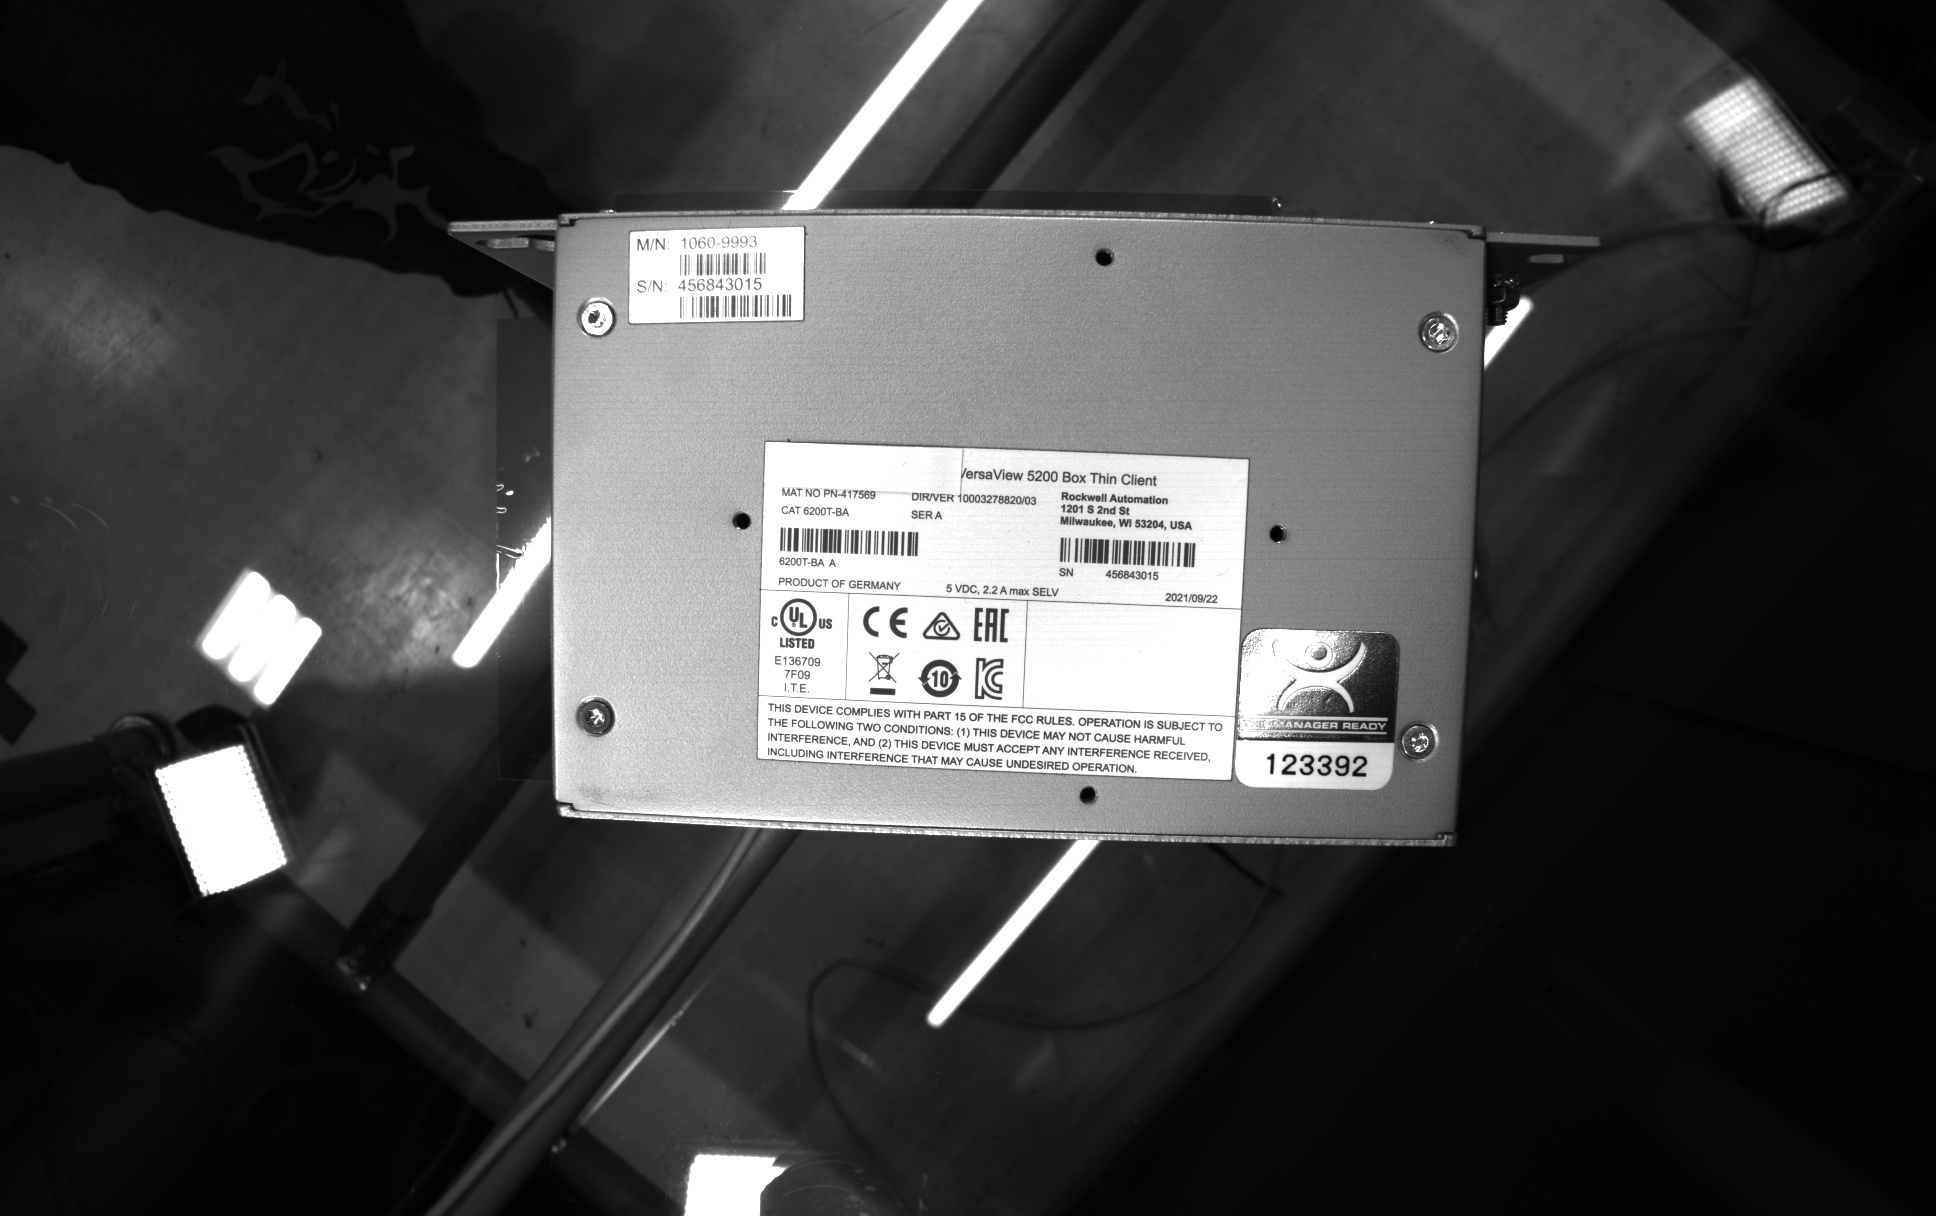Barcode: (773, 521, 927, 560), (1049, 534, 1203, 572), (672, 289, 797, 324), (672, 247, 773, 284)
CamTop: (530, 198, 1503, 873)
Label_Seriennummer: (747, 429, 1261, 794)
Loch_Montage: (724, 499, 763, 544), (1259, 511, 1299, 552), (1065, 778, 1107, 815), (1084, 235, 1123, 272)
Schraube: (1408, 304, 1465, 357), (570, 688, 621, 744), (1397, 713, 1446, 768), (567, 293, 618, 345)
